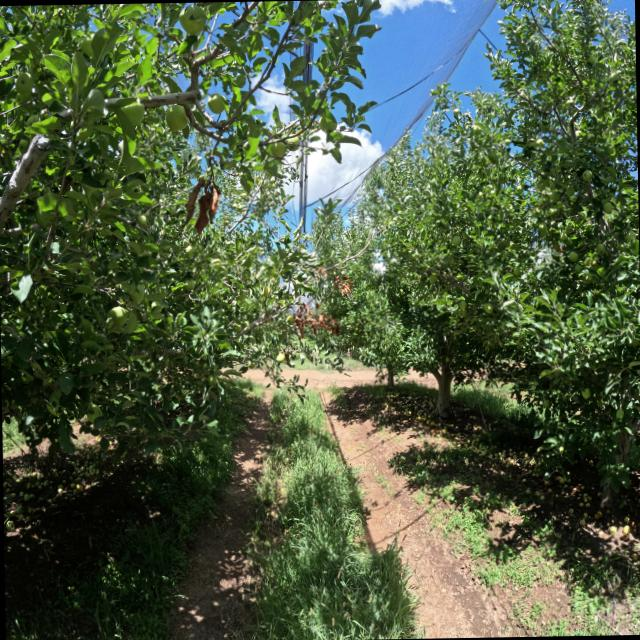-FireBlight-: (187, 178, 220, 232), (294, 300, 340, 338), (306, 261, 328, 287), (334, 274, 355, 300)
